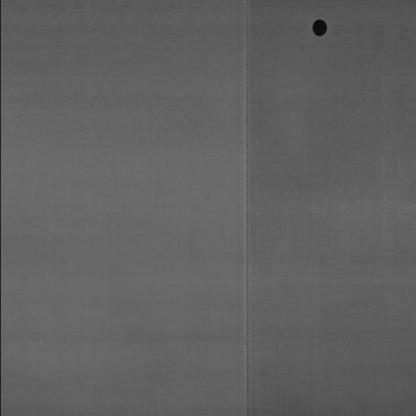punching_hole: (306, 18, 332, 39)
welding_line: (228, 0, 260, 415)
